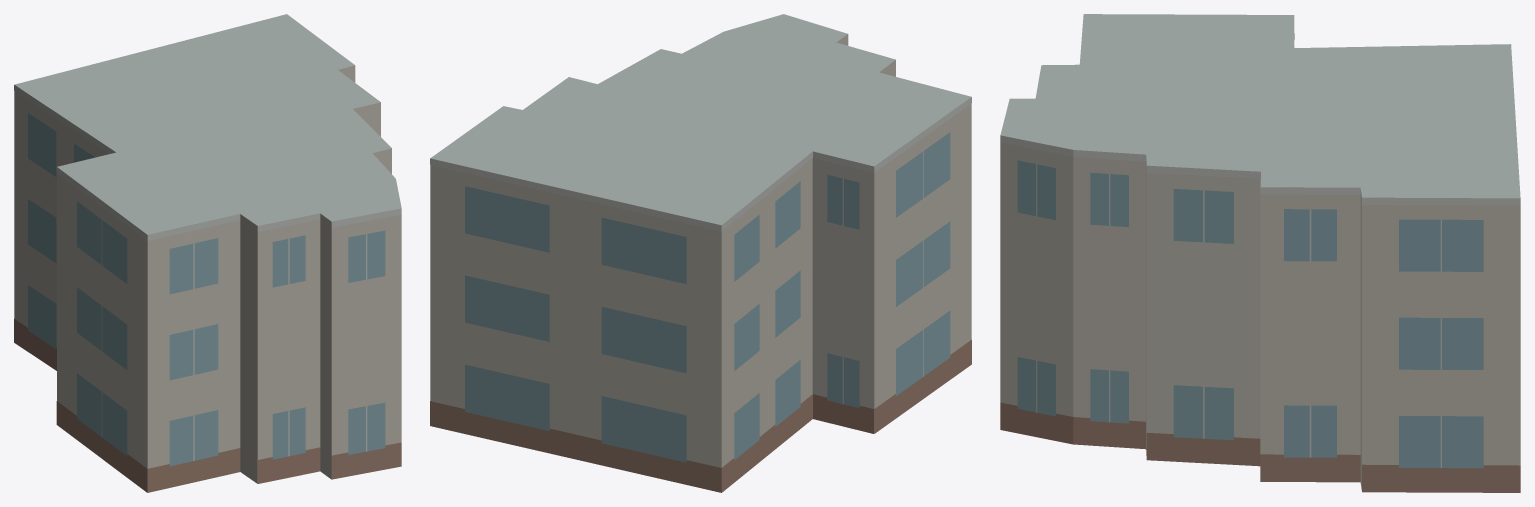
File: survey-upis-32928767.glb
The picture shows the model from 3 angles, left to right: view 1: azimuth 30°, elevation 25°; view 2: azimuth 150°, elevation 25°; view 3: azimuth 270°, elevation 25°; orthographic projection. The views are drawn at different scales.
Visible parts, largest first — view 1: survey-upis-32928767.tmp; view 2: survey-upis-32928767.tmp; view 3: survey-upis-32928767.tmp.
Boxes of the visible parts, x1=… form: survey-upis-32928767.tmp: x1=14, y1=14, x2=401, y2=492; survey-upis-32928767.tmp: x1=430, y1=14, x2=971, y2=492; survey-upis-32928767.tmp: x1=1000, y1=14, x2=1520, y2=492.
Size of the model in its own units: 13.7 by 10.2 by 16.34.
